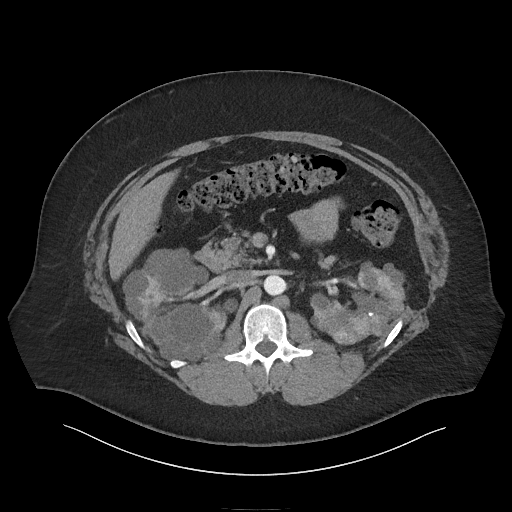Lesion: (331, 328, 349, 346)
